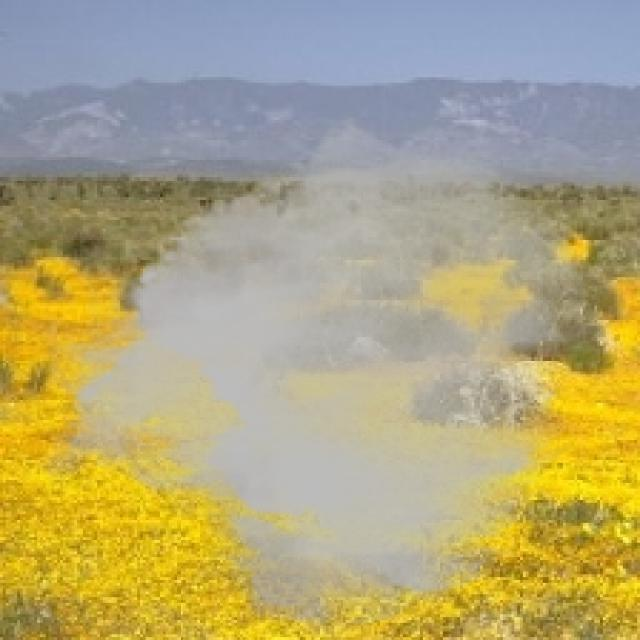Smoke: (34, 114, 592, 632)
